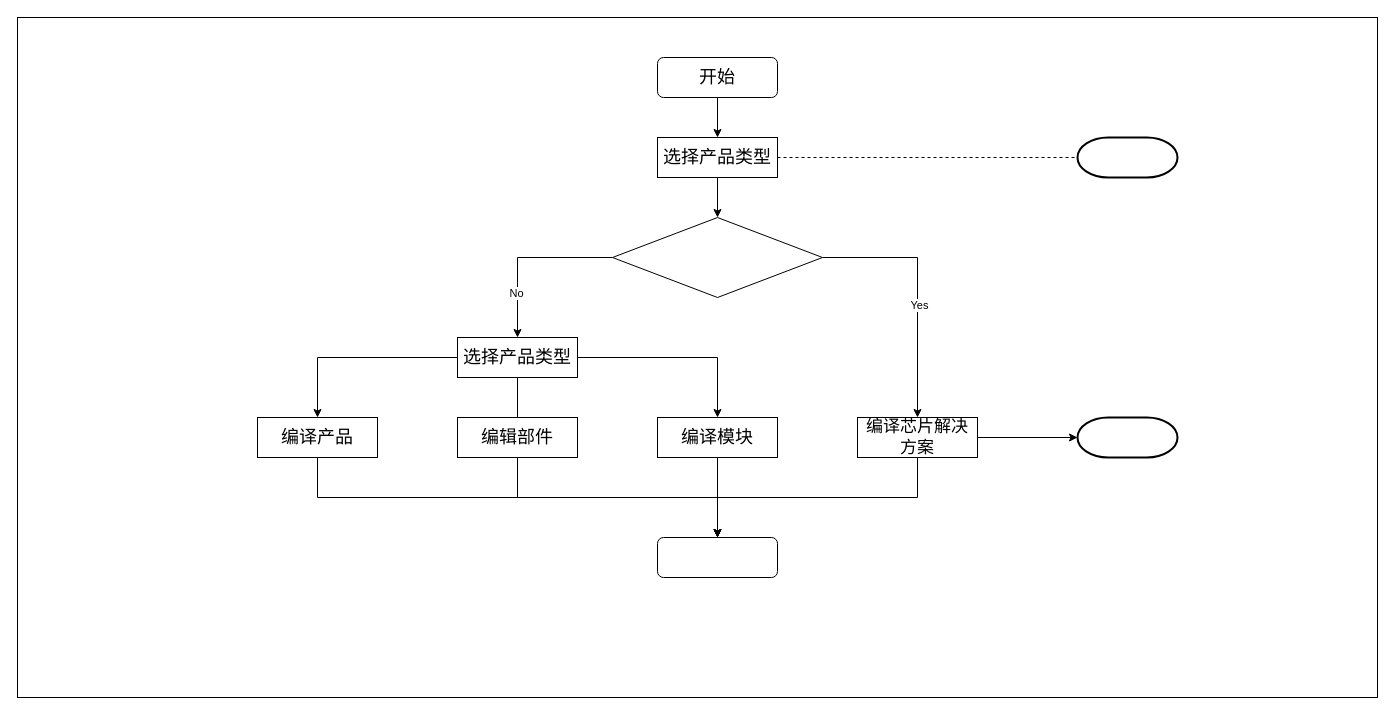
This 1395x715 diagram has some shape labels left out. The shapes that lost their labels are listed below. From the top down, each one's centre as x and y in pixels, then its label:
At (x=1127, y=157): "hb set".
At (x=717, y=257): "是开发板目录？".
At (x=1127, y=437): "hb build".
At (x=717, y=557): "结束".
